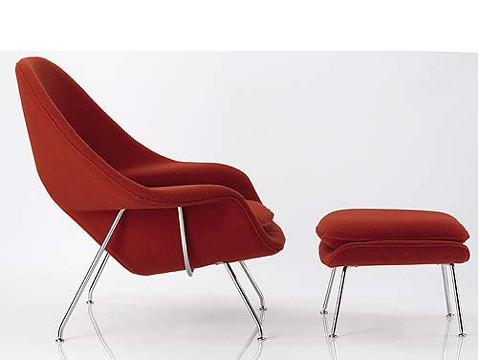chair: (15, 56, 287, 358), (316, 208, 471, 339)
